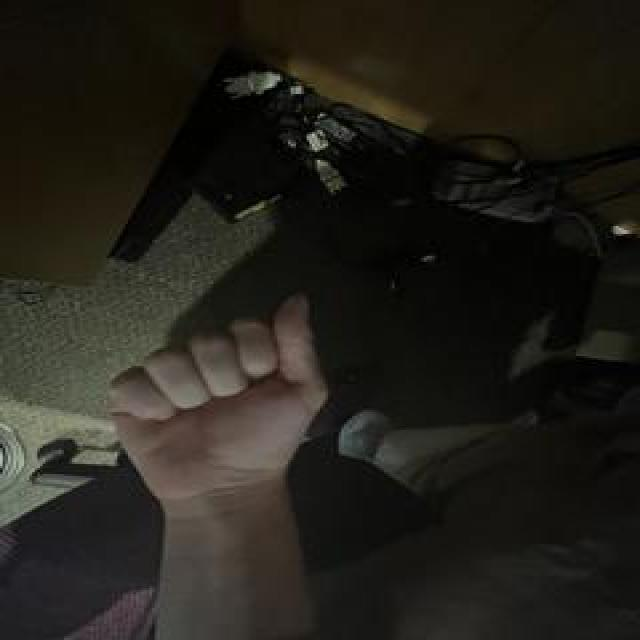A: (103, 291, 348, 511)
